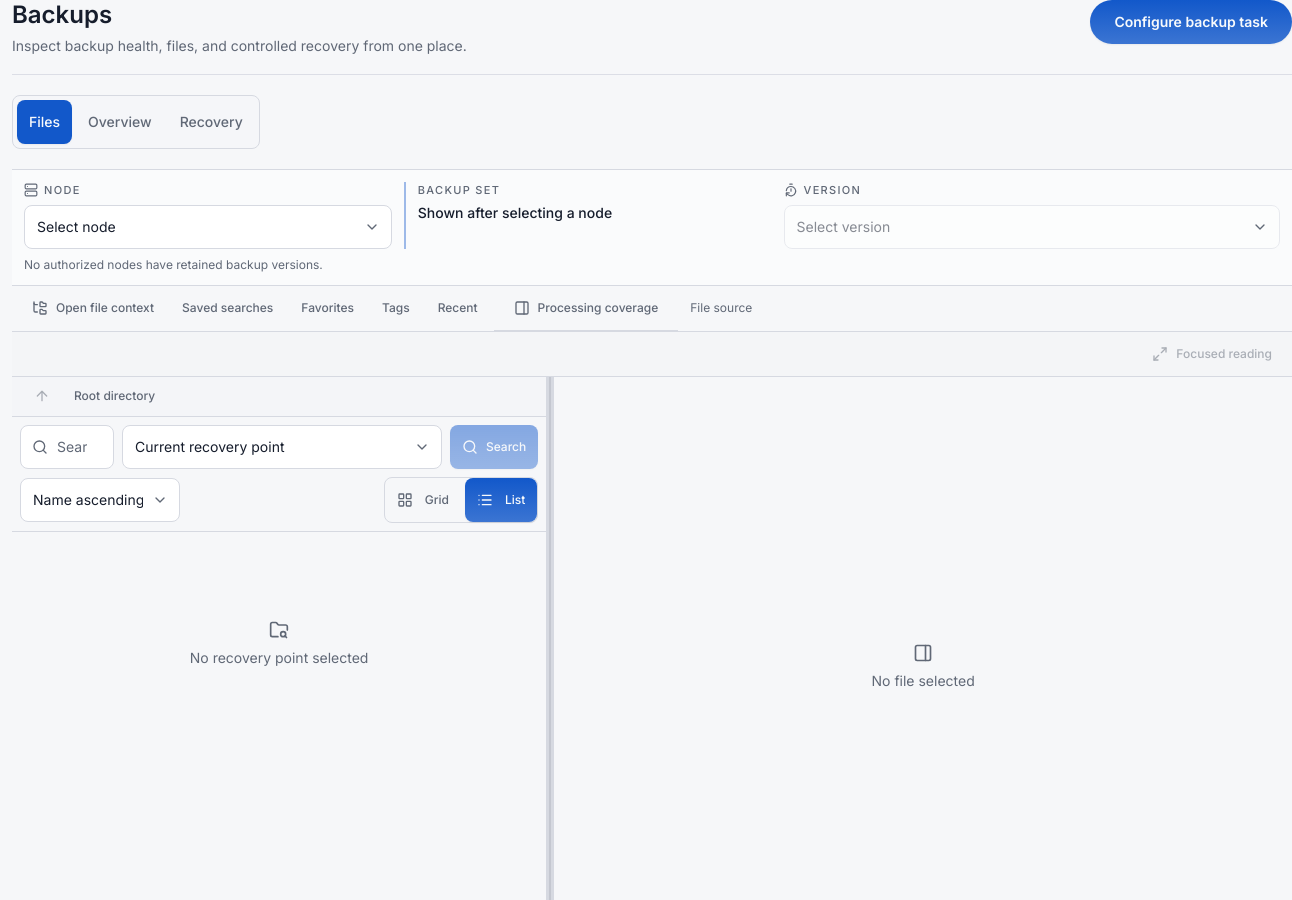
Scenario: BackupsPage › persists a user layout change while preserving unrelated route state
Click the radio button labelled "Grid" at (423, 500), box [385,478,461,522]
(page scrolled)
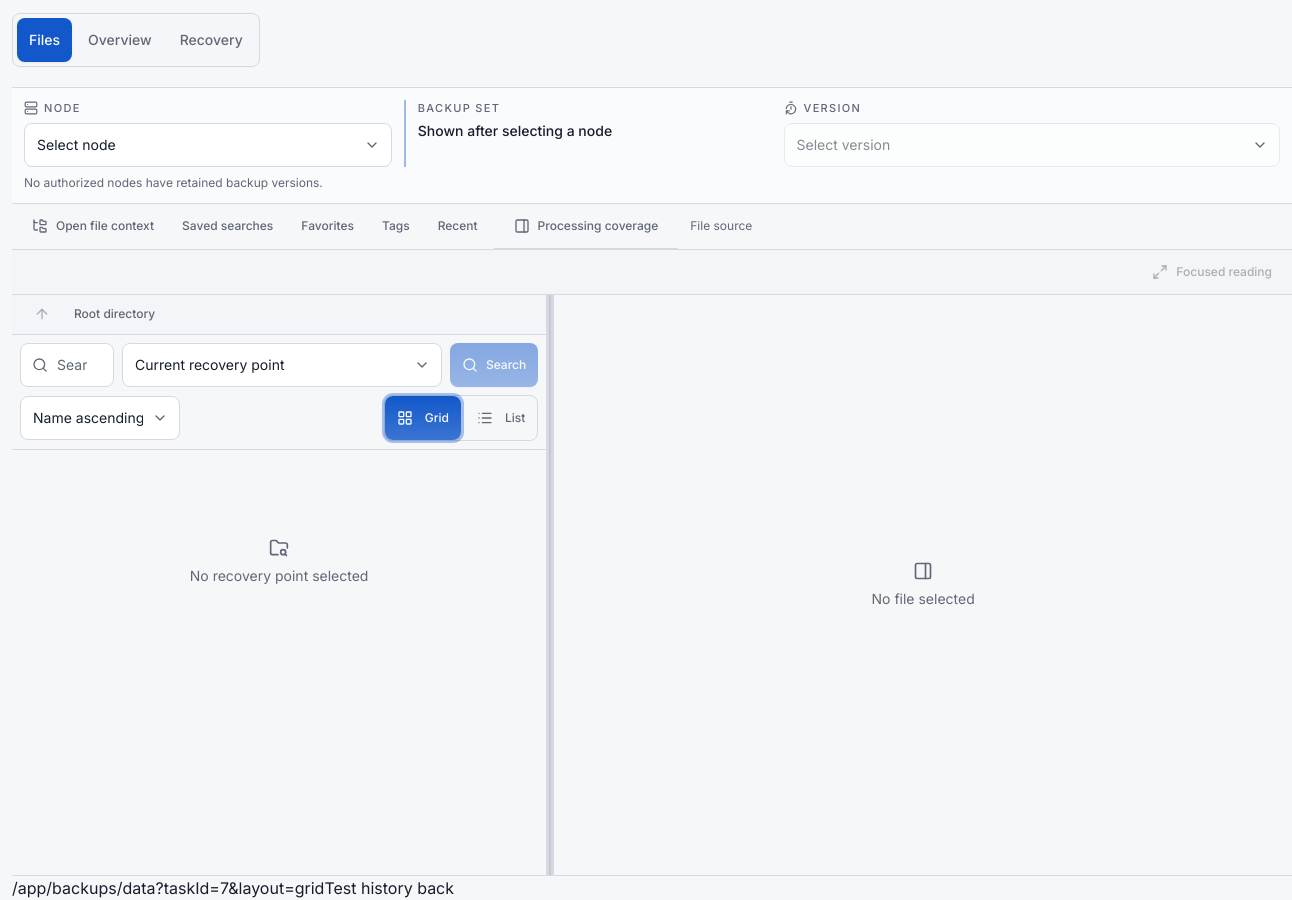
Check: the text with test id "backups-location" reads "/app/backups/data?taskId=7&layout=grid", box [12,878,324,898]
